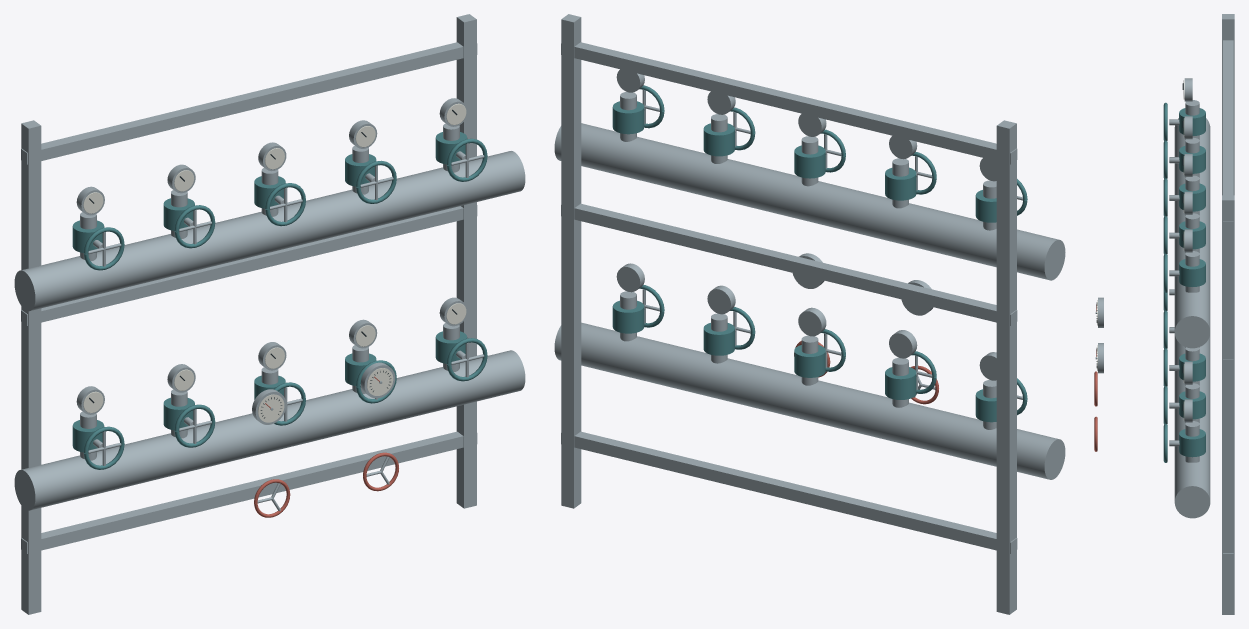
File: PC_SF_ValveManifold.fbx
3 renders of one model, left to right at view 1: azimuth 30°, elevation 25°; view 2: azimuth 150°, elevation 25°; view 3: azimuth 270°, elevation 25°, orthographic. The views are drawn at different scales.
Parts seen in each view (by area): view 1: PC_SF_ValveManifold; view 2: PC_SF_ValveManifold; view 3: PC_SF_ValveManifold.
Boxes of the visible parts, x1,y1,x2,y2 form: PC_SF_ValveManifold: (14, 14, 525, 614); PC_SF_ValveManifold: (554, 14, 1065, 614); PC_SF_ValveManifold: (1094, 14, 1234, 614).
Bounding box in the file's own units: 270 × 256 × 78.4.
